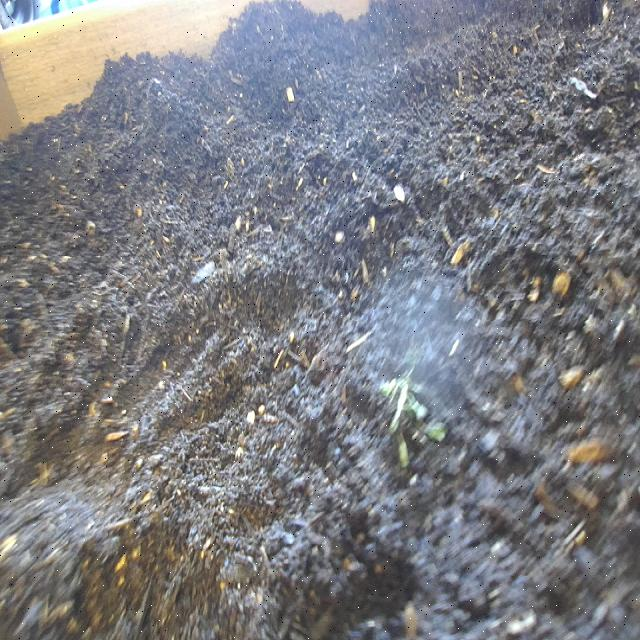Unhealthy: (369, 346, 458, 496)
